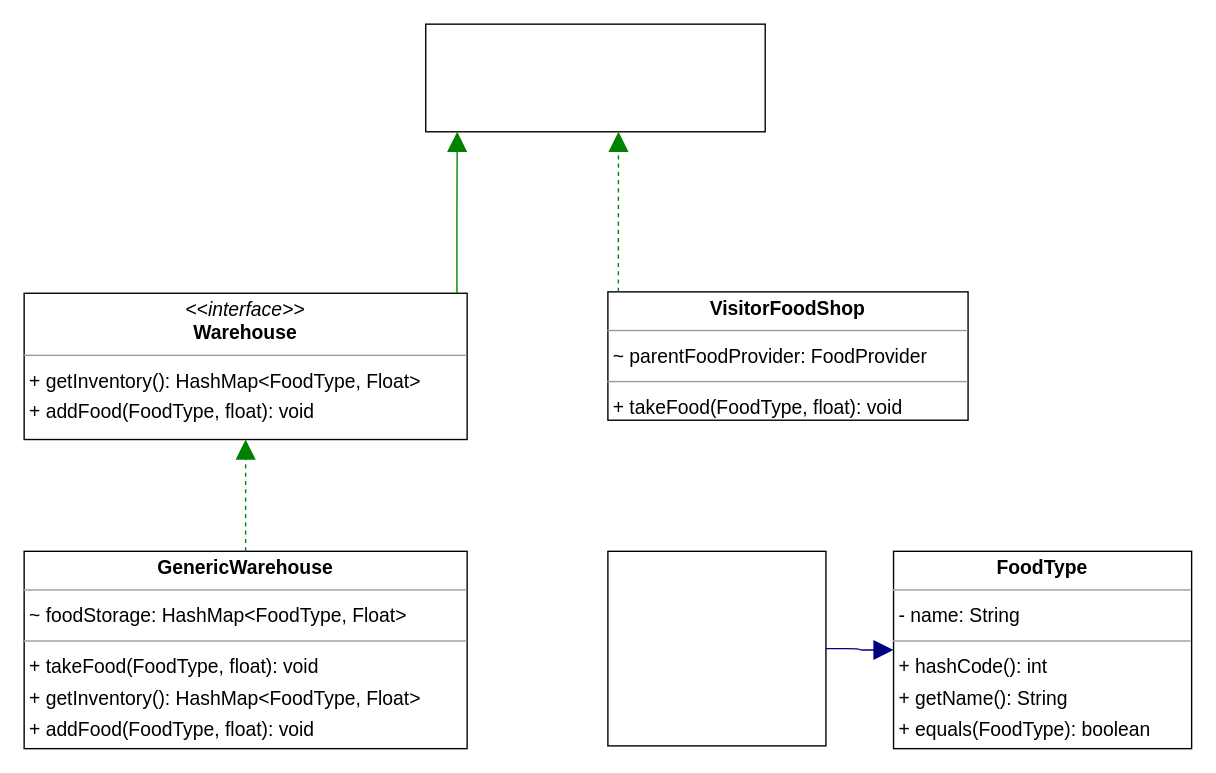
Some shapes in this 1216 by 773 pixel diagram are drawn without their labels. The centre of each missing label's shape, as x and y in pixels:
"<<interface>> FoodProvider + takeFood(FoodType, float): void" belongs at point 594,77.
"FoodTypes + FISH: FoodType + SEEDS: FoodType + ALGAE: FoodType + MEAT: FoodType" belongs at point 716,648.
